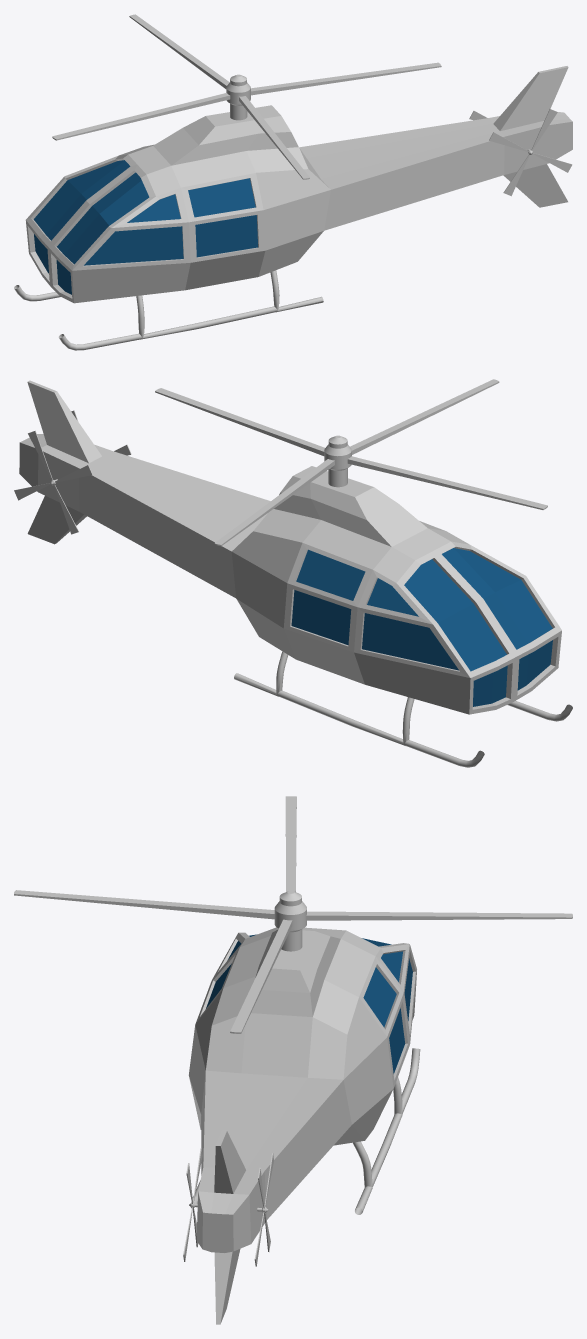
The model's file is helicopter_animation_000188.obj.
3 views of the same model, one above another, from view 1: azimuth 30°, elevation 25°; view 2: azimuth 150°, elevation 25°; view 3: azimuth 270°, elevation 25° (orthographic). The views are drawn at different scales.
Visible parts, largest first — view 1: Helicopter.007_Cylinder.008, Helicopter.001_Cylinder.001, Helicopter.003_Cylinder.004; view 2: Helicopter.007_Cylinder.008, Helicopter.001_Cylinder.001, Helicopter.004_Cylinder.005; view 3: Helicopter.007_Cylinder.008, Helicopter.001_Cylinder.001.
Boxes of the visible parts, bbox=[...] form: Helicopter.007_Cylinder.008: bbox=[14, 66, 572, 350]; Helicopter.001_Cylinder.001: bbox=[52, 14, 441, 179]; Helicopter.003_Cylinder.004: bbox=[489, 109, 572, 196]; Helicopter.007_Cylinder.008: bbox=[19, 380, 572, 767]; Helicopter.001_Cylinder.001: bbox=[155, 379, 547, 546]; Helicopter.004_Cylinder.005: bbox=[14, 430, 92, 534]; Helicopter.007_Cylinder.008: bbox=[188, 927, 420, 1324]; Helicopter.001_Cylinder.001: bbox=[14, 796, 572, 1033].
Bounding box in the file's own units: 7.55 × 3.2 × 5.55.
